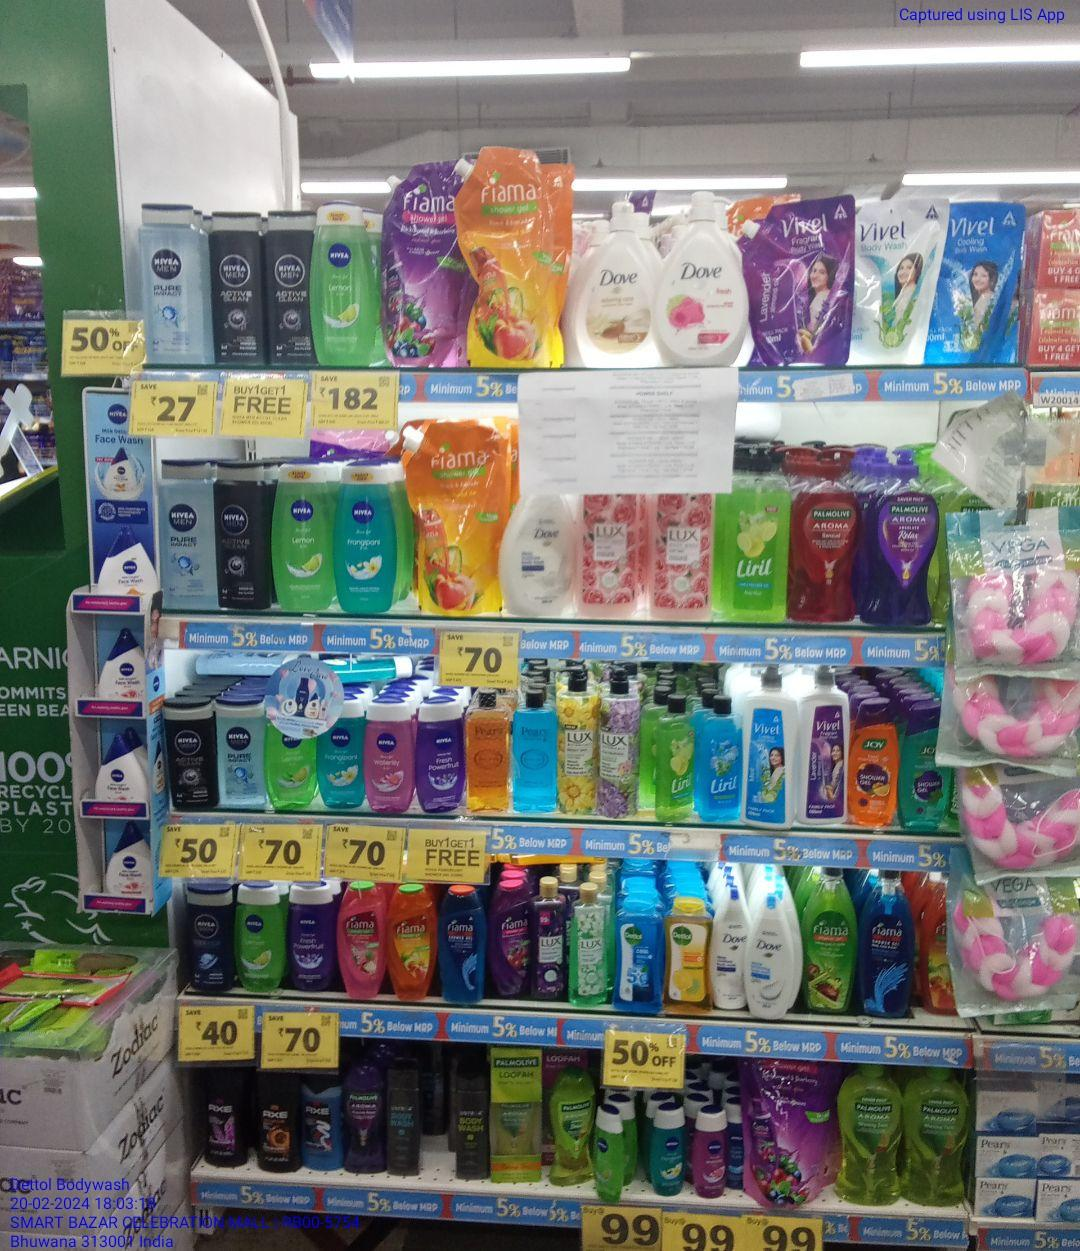Dettol_Bodywash_Cool: (698, 695, 741, 823), (614, 901, 661, 1013)
Dettol_Bodywash_Refresh: (665, 898, 711, 1014), (714, 898, 745, 1010)
Dove_Gentle_Exfoliating_Body_Wash_250ML: (748, 894, 796, 1019)
Fiama_Shower_Gel_Patchouli_and_Macadamia_250ML: (337, 887, 384, 997)
Fiama_Shower_Gel_Peach_and_Avocado_250ML: (387, 894, 433, 1001)
Joy_Shower_Gel_Mandarin_and_Lemongrass_250ML: (849, 702, 896, 824)
Joy_Shower_Gel_Mint_and_Eucalyptus_250ML: (901, 704, 937, 830)
Liril_Lime_and_Tea_Tree_Oil_Body_Wash_250ML: (658, 695, 694, 821)
Lux_Black_Orchid_Scent_and_Juniper_Oil_Body_Wash_245ML: (533, 872, 567, 999)
Lux_Body_Wash_Skin_Detox_Freesia_Scent_and_Alove_Vera_245ML: (570, 884, 609, 1004)
Nivea_Shower_Gel_Frangipani_and_Oil_250ML: (337, 466, 394, 614), (318, 730, 364, 807)
Nivea_Shower_Gel_Fresh_Powerfruit_250ML: (417, 708, 466, 814), (288, 883, 332, 991)
Nivea_Shower_Gel_Lemon_and_Oil_250ML: (311, 202, 378, 366), (271, 464, 334, 613), (236, 885, 284, 994), (266, 735, 316, 816)
Nivea_Shower_Gel_Waterlily_and_Oil_250ML: (367, 708, 414, 814)
Palmolive_Aroma_Relax_250ML: (343, 1063, 387, 1171)
Pears_Pure_Glycerin_and_Mint_Extracts_Body_Wash_250ML: (513, 691, 555, 812)
